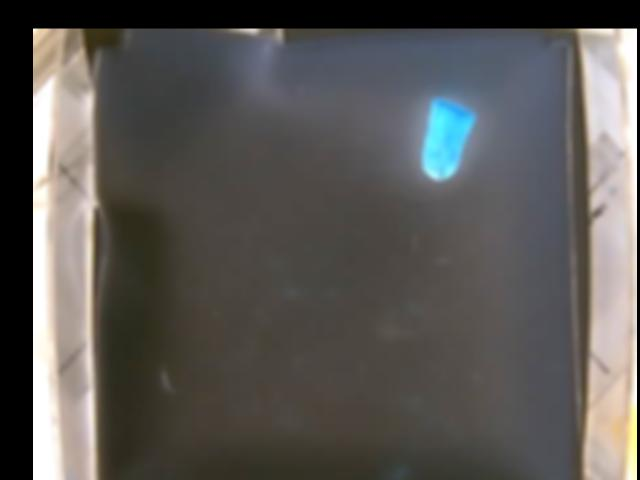Carrot: (422, 99, 476, 178)
